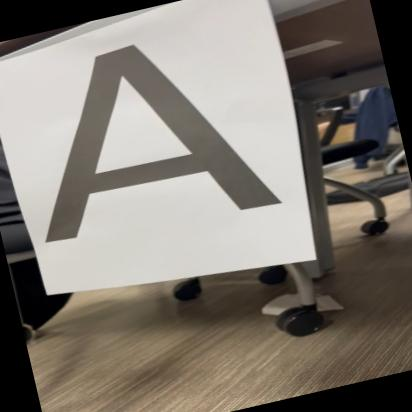seat: (4, 12, 294, 264)
